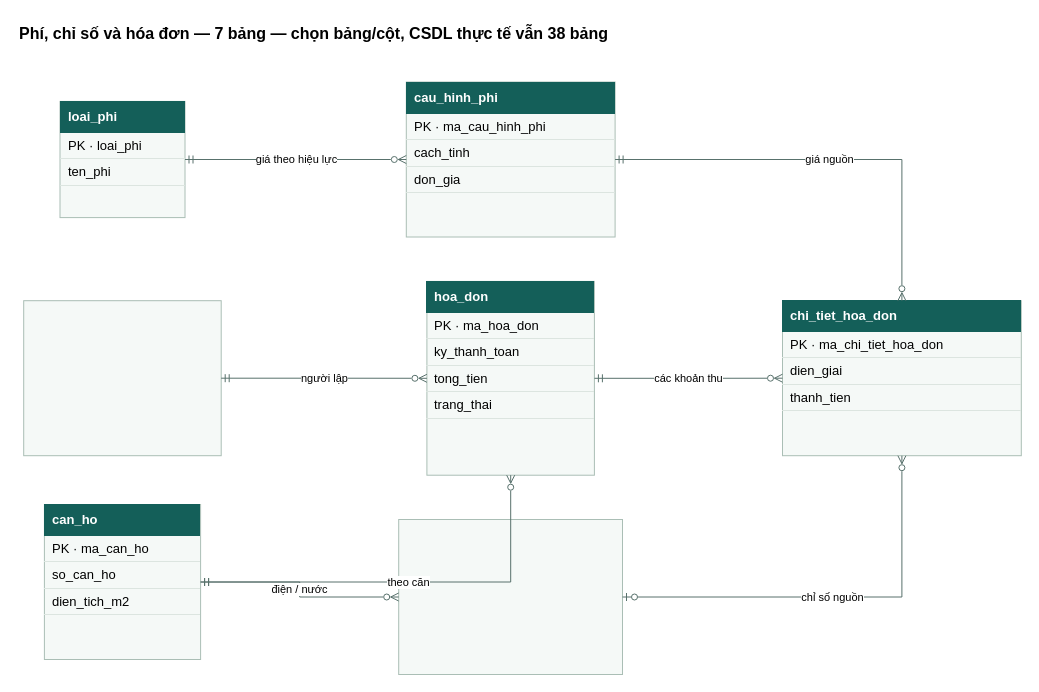
Some shapes in this 1039 by 692 pixel diagram are drawn without their labels. Each missing label, with the box of its shape:
chi_so_dich_vu PK · ma_chi_so_dich_vu loai_dich_vu ky_thanh_toan: (398, 518, 622, 674)
nguoi_dung PK · ma_nguoi_dung ho_va_ten vai_tro: (23, 300, 221, 456)
